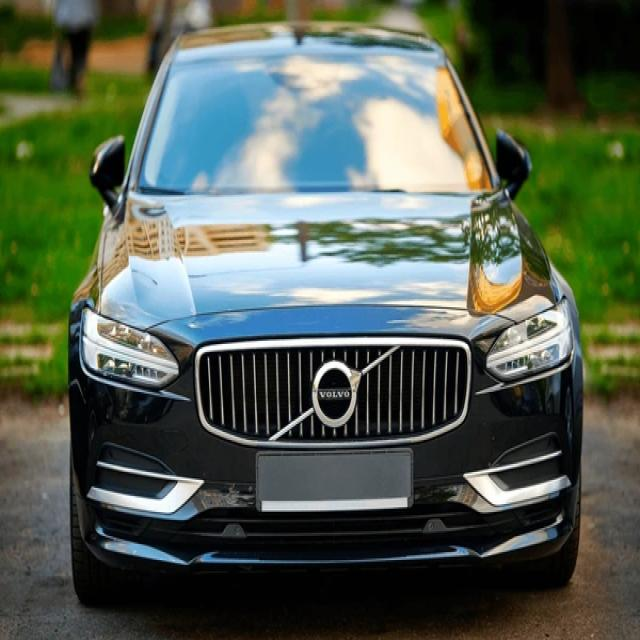volvo: (308, 362, 367, 429)
